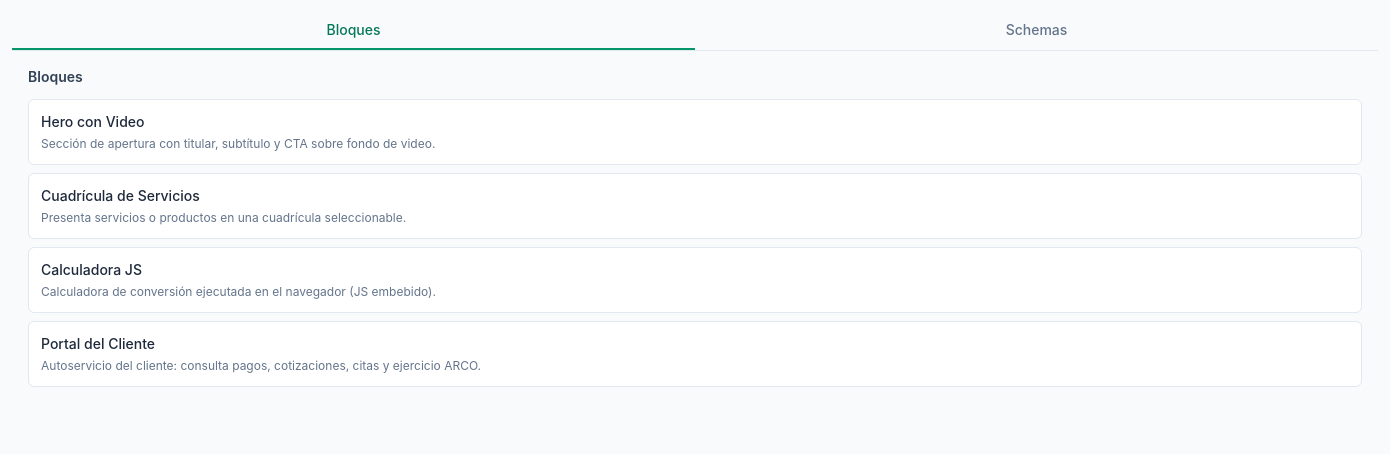
Scenario: EditorSidebar › cambia a la pestaña Schemas y muestra el panel del editor
The width and height of the screenshot is (1390, 454).
Click the tab "Schemas". click: (1036, 31)
box: x1=695 y1=12 x2=1378 y2=50
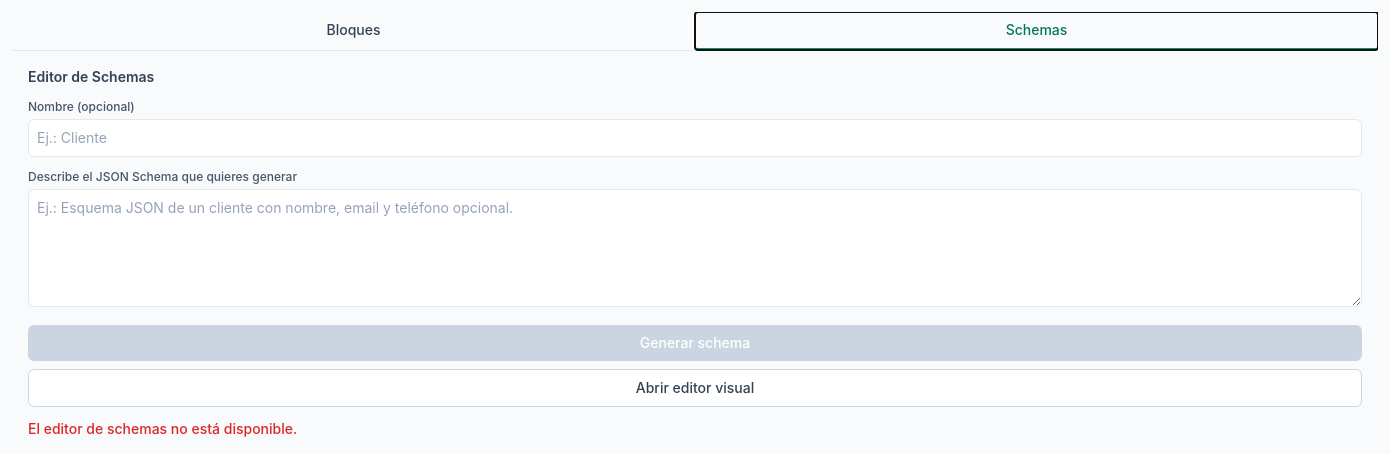
Result: the heading "Editor de Schemas" is shown at x1=28 y1=68 x2=154 y2=85
